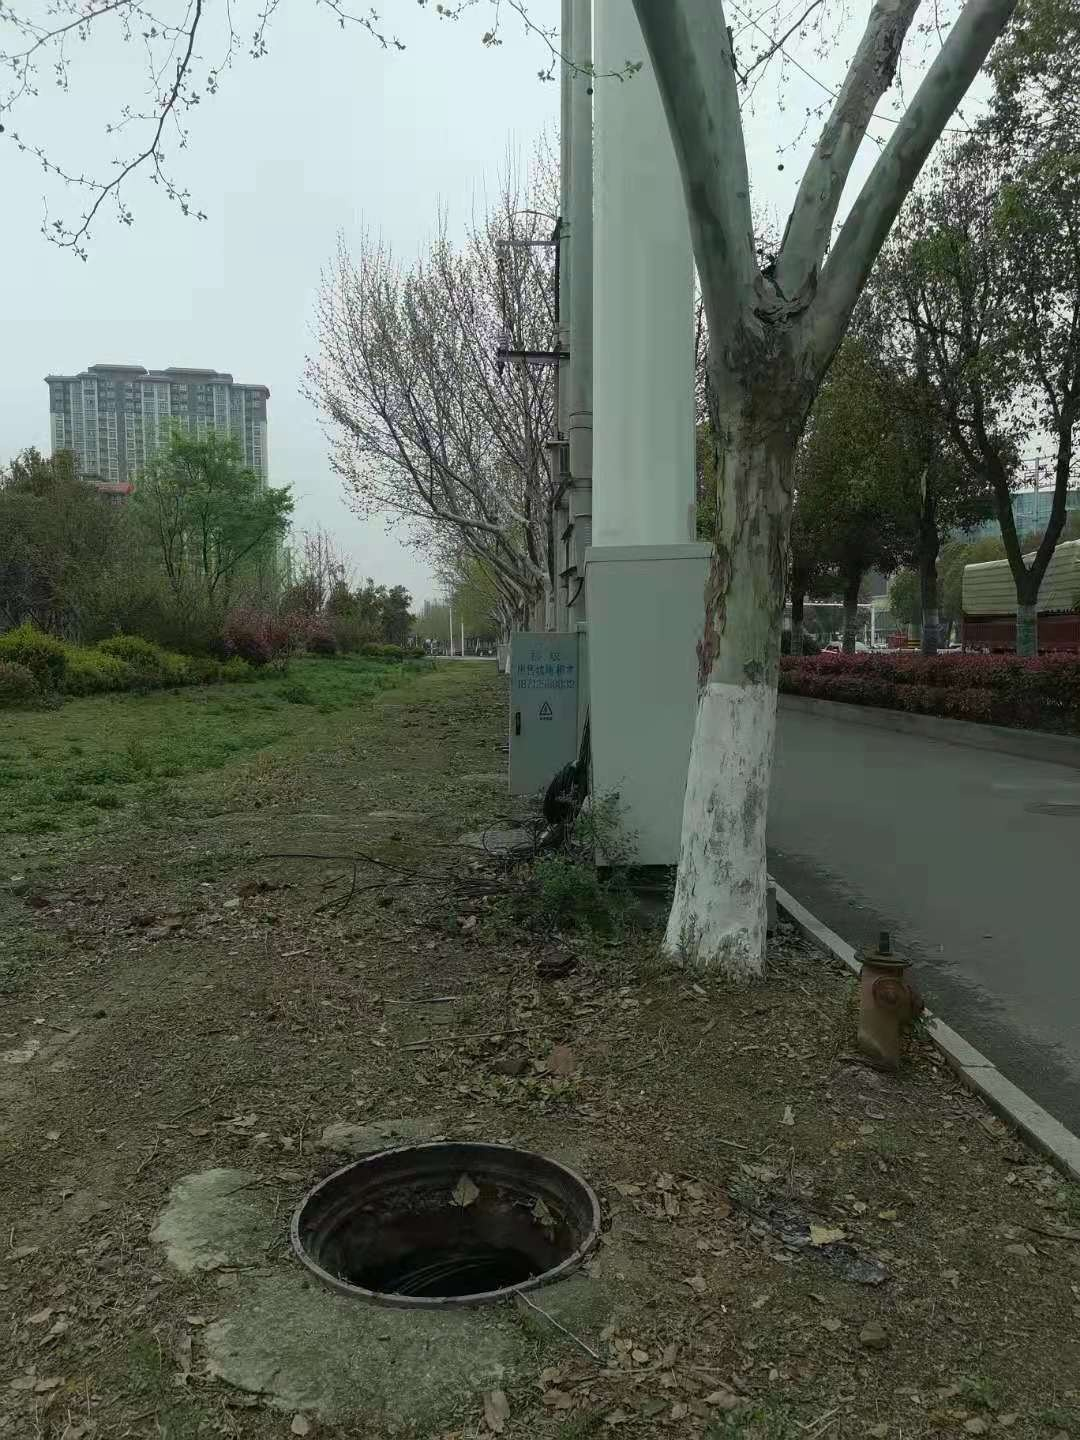lose: (288, 1137, 601, 1306)
